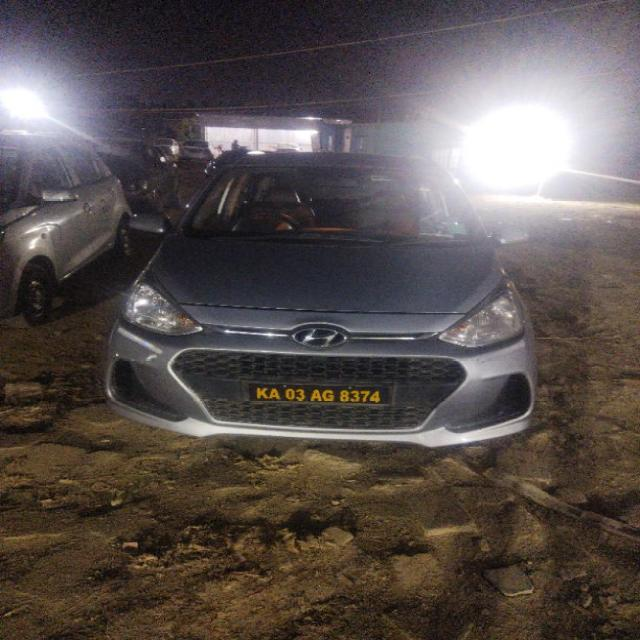license_plate: (240, 378, 393, 406)
